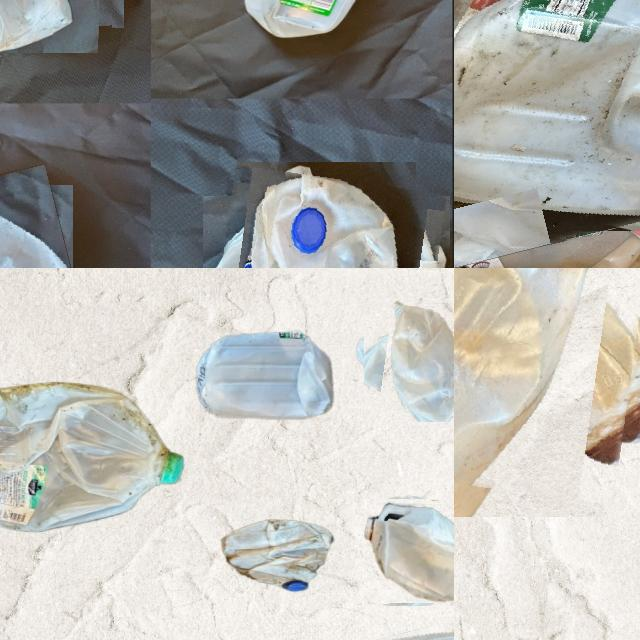milk-jug: (454, 0, 640, 252), (454, 268, 640, 494), (0, 387, 184, 529), (212, 172, 439, 268), (193, 334, 337, 426), (222, 515, 340, 599), (363, 500, 454, 605), (370, 305, 454, 415)
